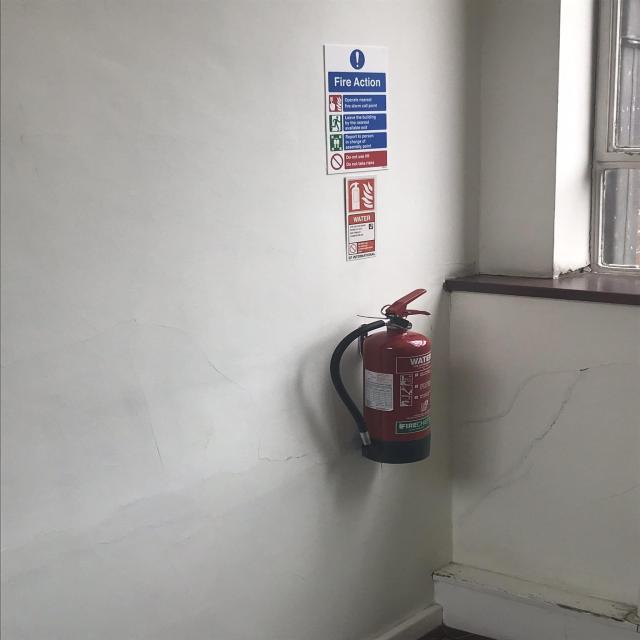fire_extinguisher: (325, 285, 440, 467)
